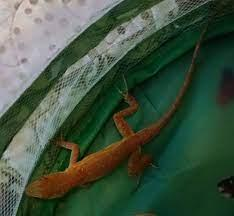lizard: (22, 39, 198, 203)
